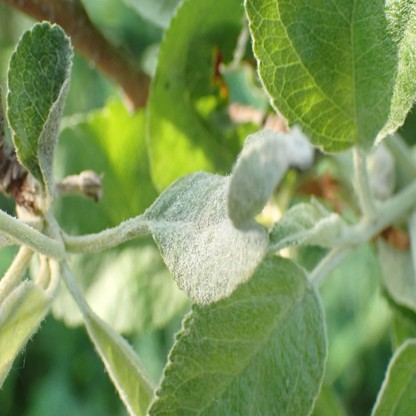powder: (145, 130, 345, 308), (131, 255, 329, 416), (245, 1, 416, 151), (6, 20, 75, 206)
rust: (212, 49, 228, 100)
